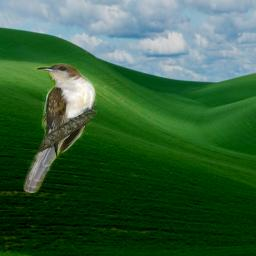Cuckoo: (23, 63, 97, 193)
